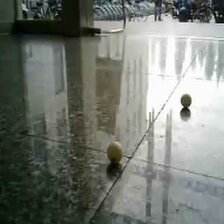w: (107, 141, 124, 164), (180, 93, 193, 109)
